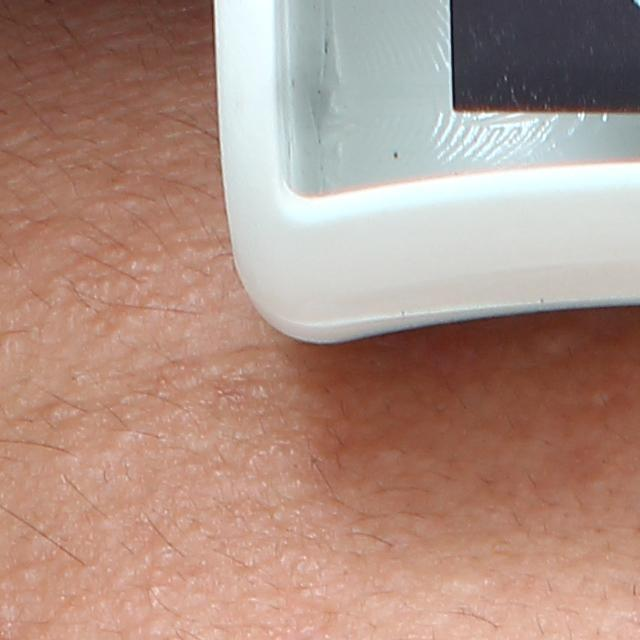comedo: (32, 399, 82, 423), (9, 560, 45, 590)
